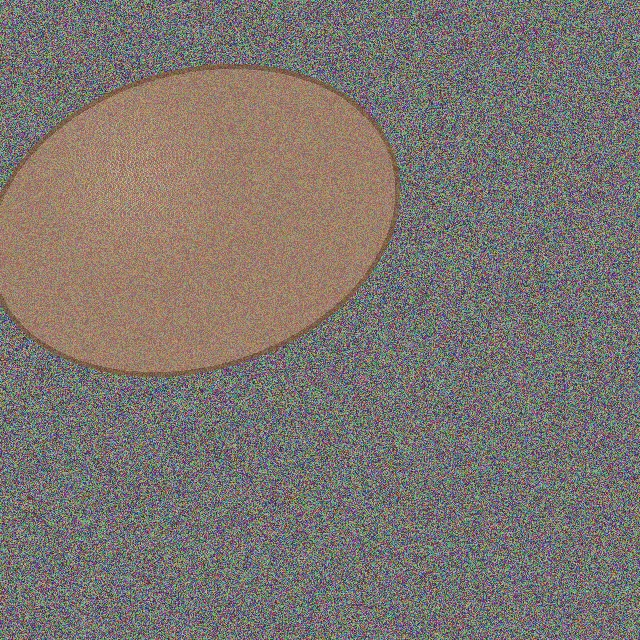lens: (0, 67, 397, 373)
